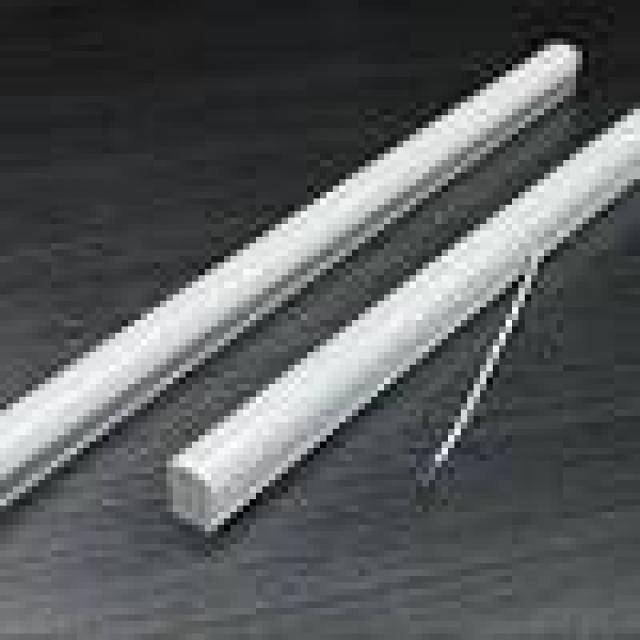tubelight_off: (0, 25, 584, 525), (144, 99, 640, 546)
